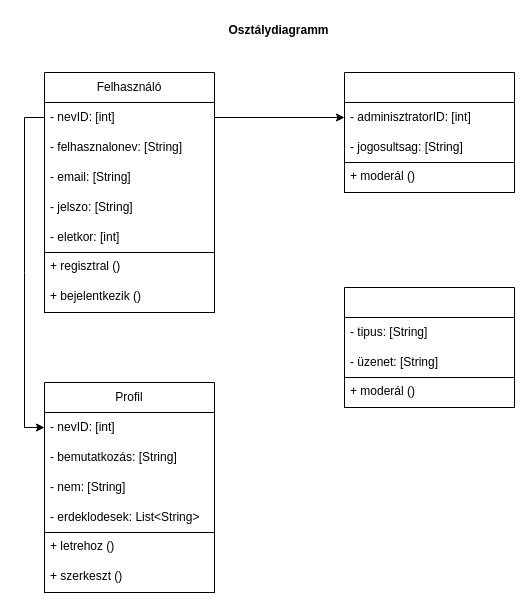
Image size: 532x612. Some labels were removed from this diagram. The box of each missing label's shape, as (x1, y1, x2, y2) in pixels:
Adminisztrátor: (344, 72, 514, 162)
Értesítés: (344, 286, 514, 378)
